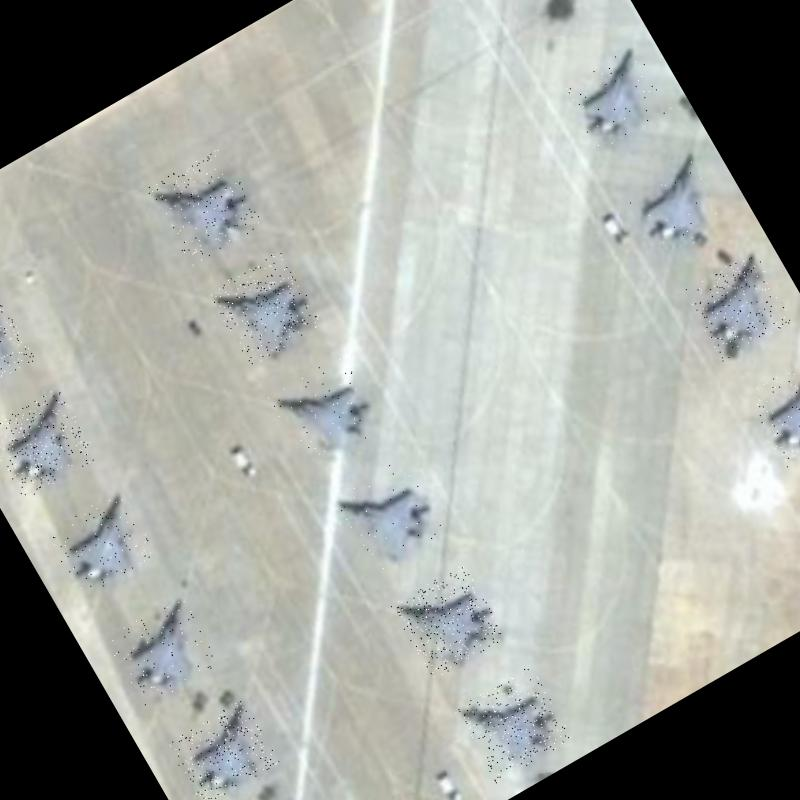A13: (327, 456, 448, 578), (145, 146, 264, 267), (454, 665, 574, 783), (266, 353, 384, 471), (207, 250, 324, 368), (390, 563, 507, 680), (621, 149, 737, 267), (104, 593, 222, 708), (558, 40, 672, 152), (682, 250, 794, 362), (44, 489, 158, 599), (166, 698, 280, 800), (0, 387, 99, 501), (744, 353, 800, 471), (0, 284, 36, 399)
